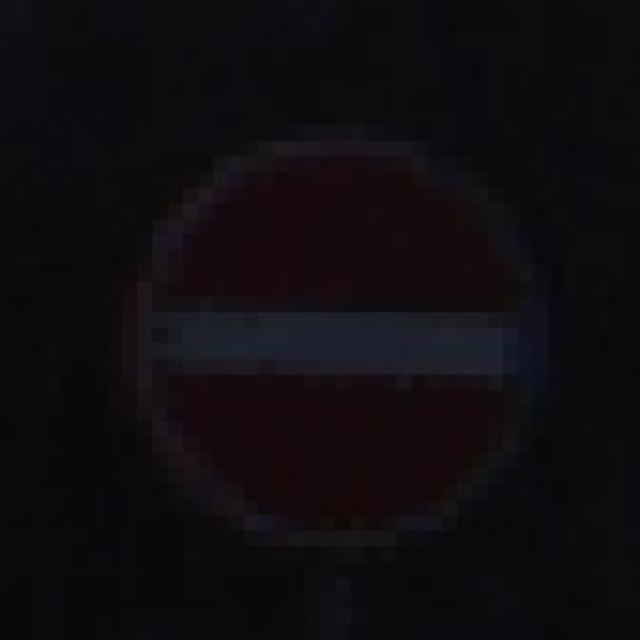No Entry: (46, 93, 594, 562)
